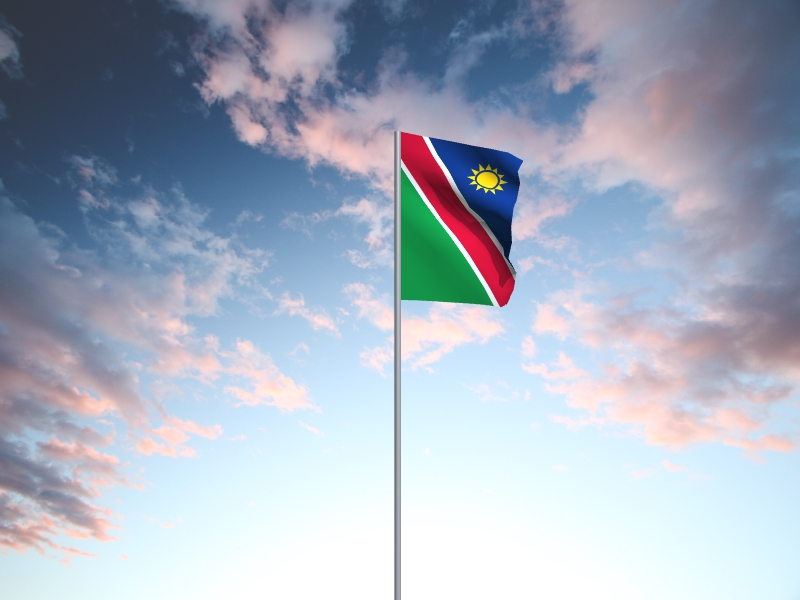na: (402, 133, 525, 308)
